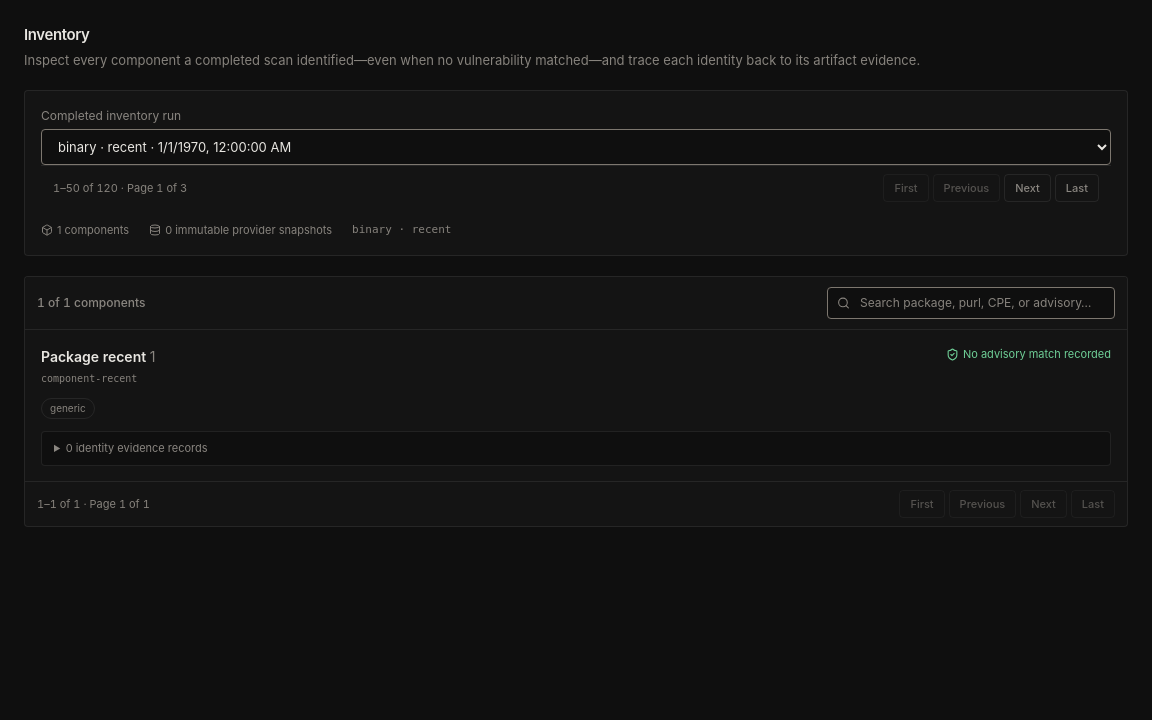
Test: older inventory runs remain accessible beyond the first hundred
Expected: the heading "Package recent 1" is shown, [41,346,155,366]
Step 1. Click the button named "Last page of inventory runs" → (1077, 188), box [1055,174,1099,202]
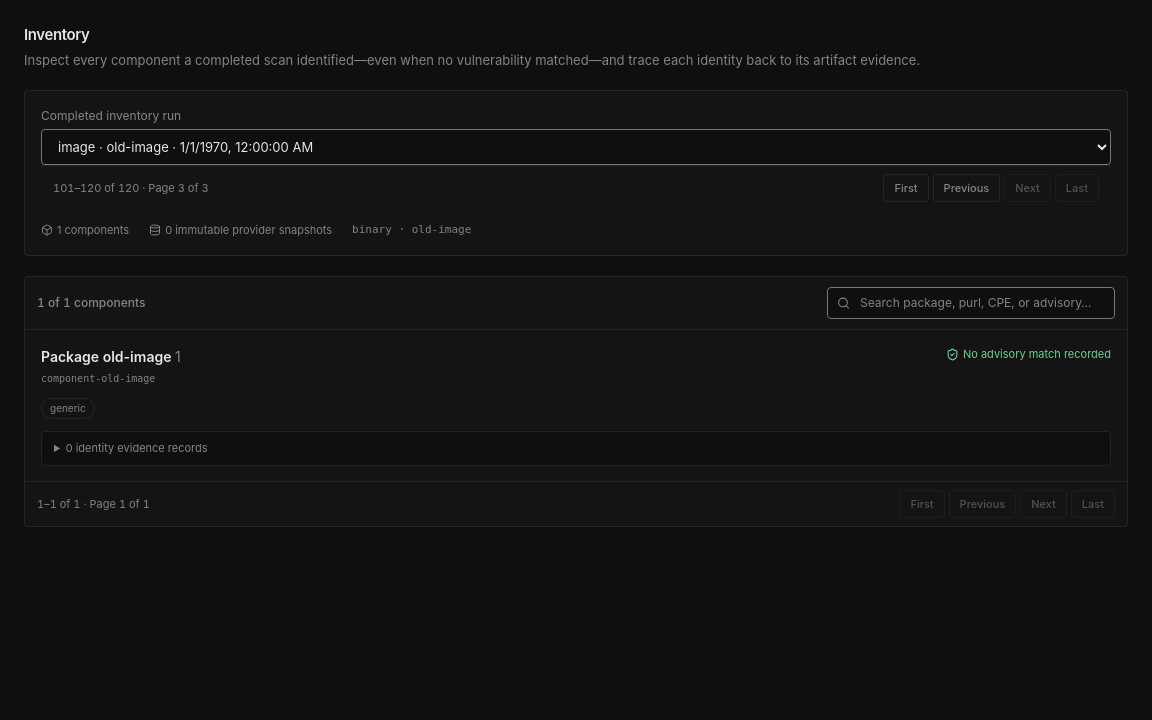
Now the heading "Package old-image 1" is shown, box [41,346,181,366]
